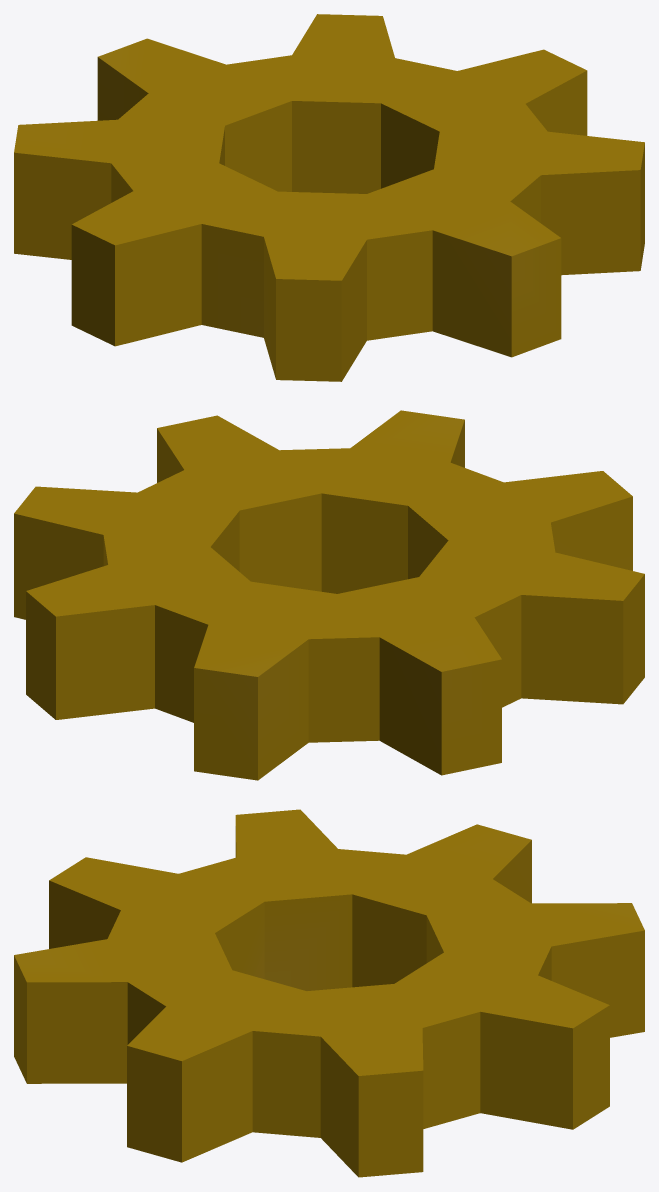
File: iron-gear.glb
The picture shows the model from 3 angles, top to bottom: view 1: azimuth 30°, elevation 25°; view 2: azimuth 150°, elevation 25°; view 3: azimuth 270°, elevation 25°; orthographic projection. The views are drawn at different scales.
Visible parts, largest first — view 1: Cylinder; view 2: Cylinder; view 3: Cylinder.
Part boxes in pixels (<box>): Cylinder: <box>14,14,644,381</box>; Cylinder: <box>14,410,644,780</box>; Cylinder: <box>14,809,644,1177</box>.
Size of the model in its own units: 3.38 by 0.6 by 3.38.
